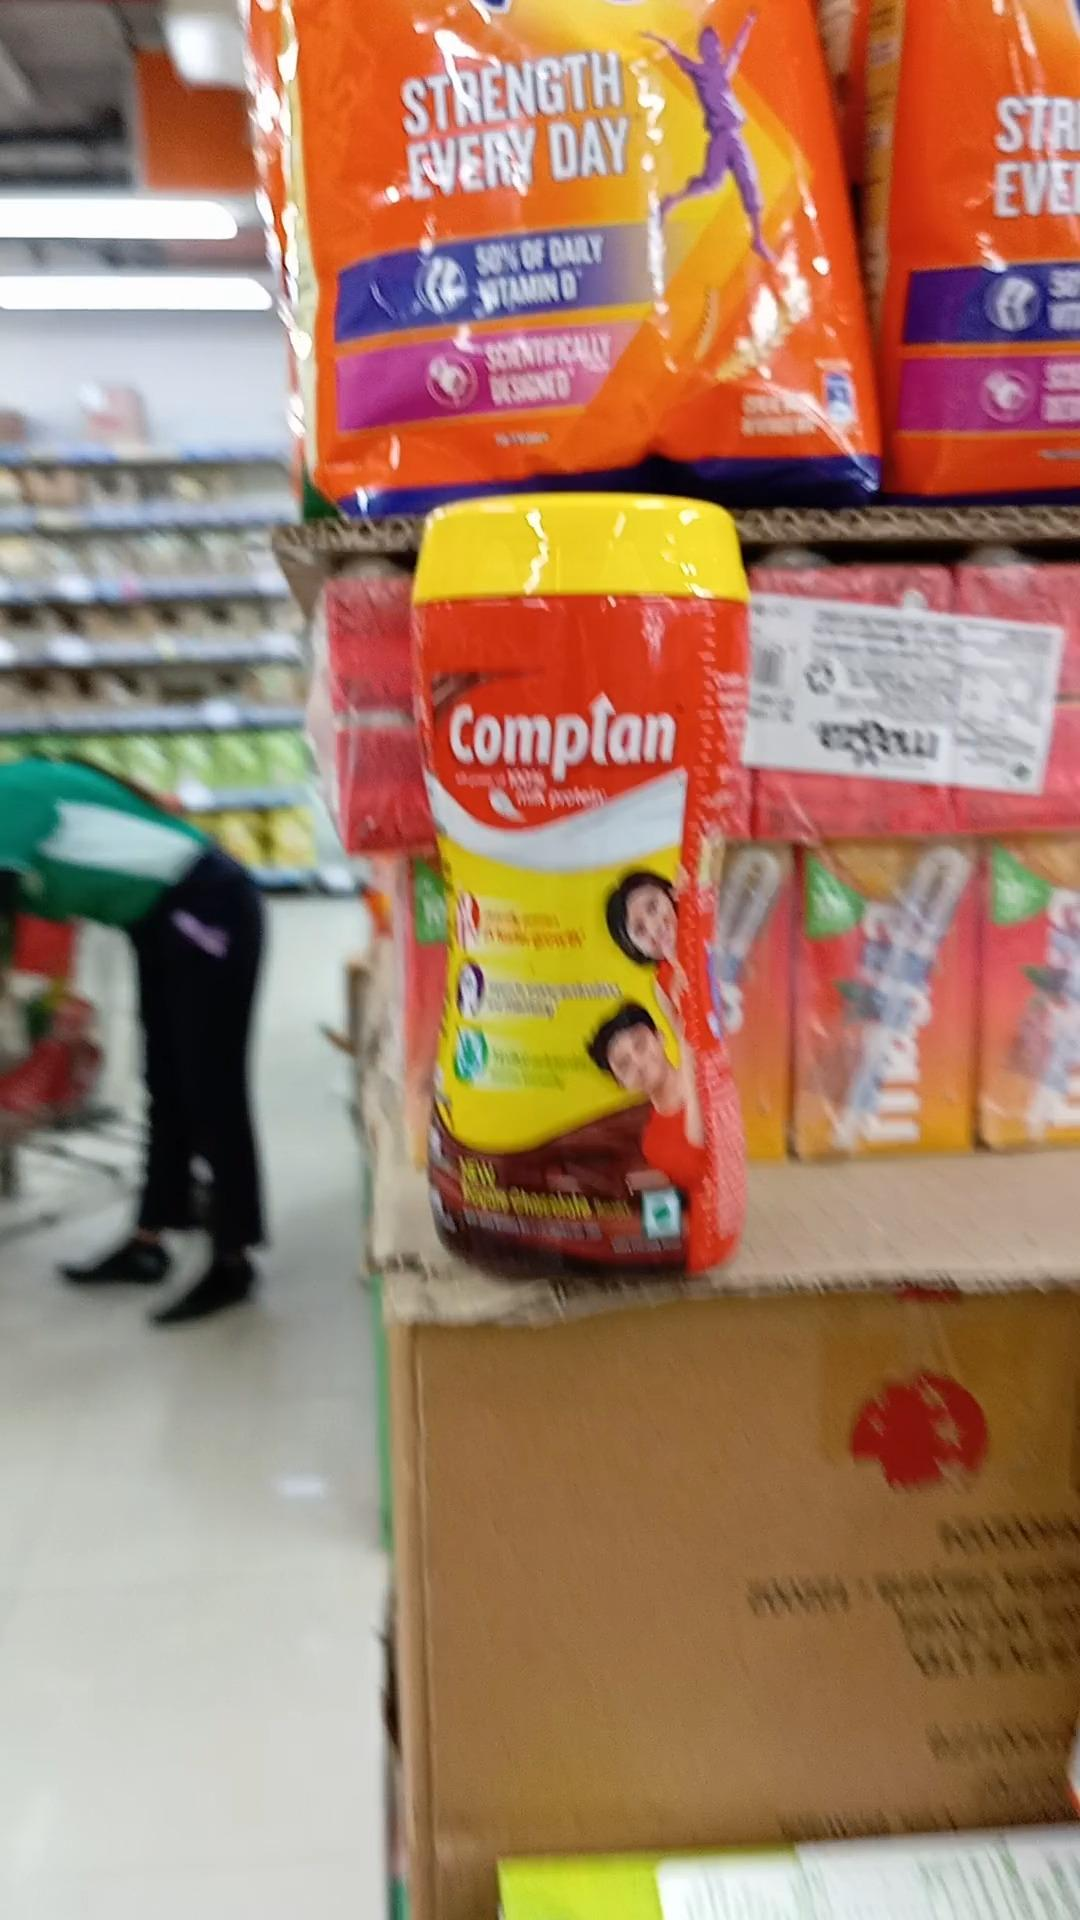COMPLAN_CHOCOLATE_200_GMS_JAR: (398, 480, 724, 1288)
